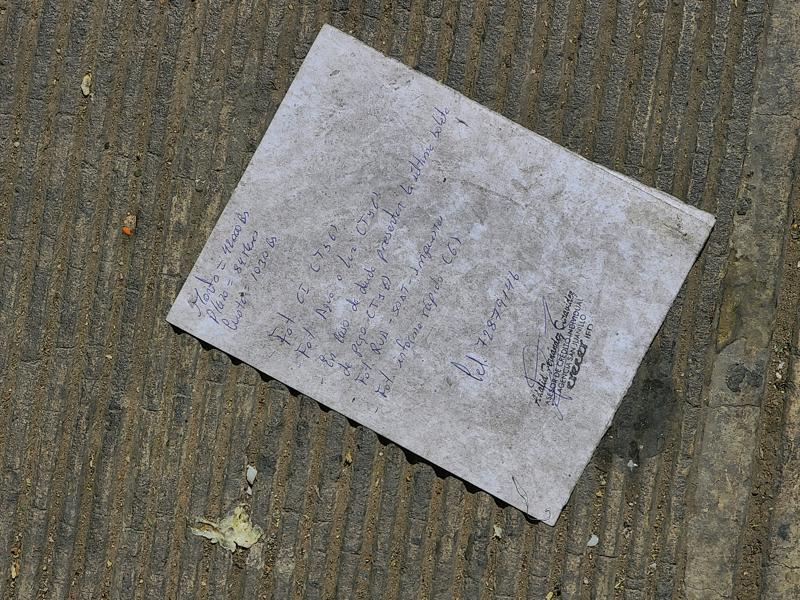papel: (163, 26, 715, 527)
